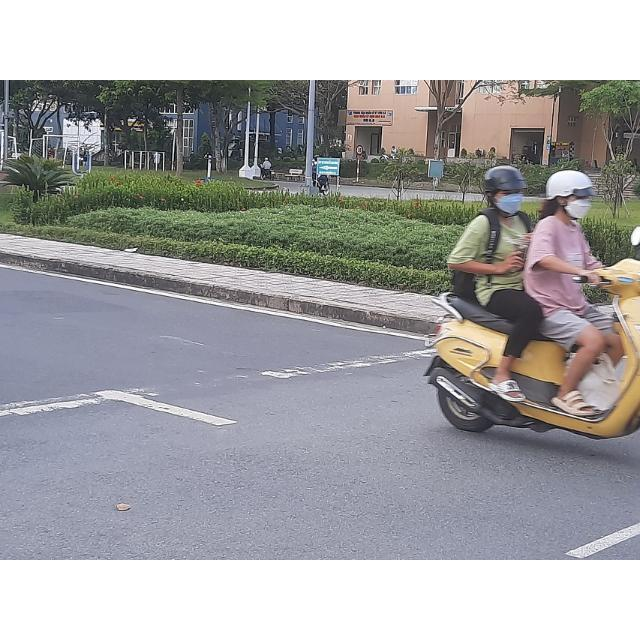Helmet: (547, 171, 597, 221), (484, 165, 528, 215)
